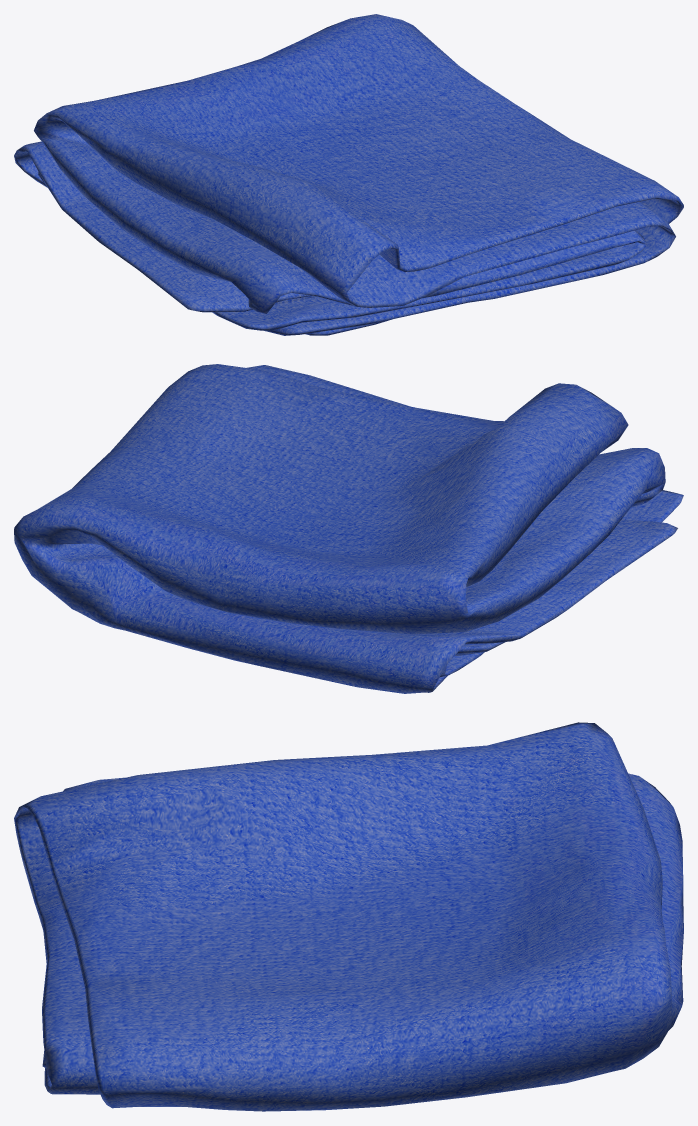
The model's file is Towel 1.FBX.
3 renders of one model, top to bottom at view 1: azimuth 30°, elevation 25°; view 2: azimuth 150°, elevation 25°; view 3: azimuth 270°, elevation 25°, orthographic. The views are drawn at different scales.
Parts seen in each view (by area): view 1: towel; view 2: towel; view 3: towel.
Part boxes in pixels (box(x1,y1,x2,y2)): towel: box(14, 14, 683, 335); towel: box(14, 364, 683, 693); towel: box(14, 722, 683, 1111).
Size of the model in its own units: 28.28 by 6.4 by 26.58.
Materials: 1 (1 with a texture image).
